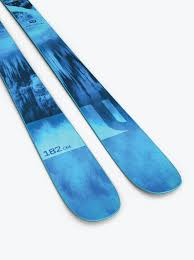skis: (1, 1, 182, 223)
